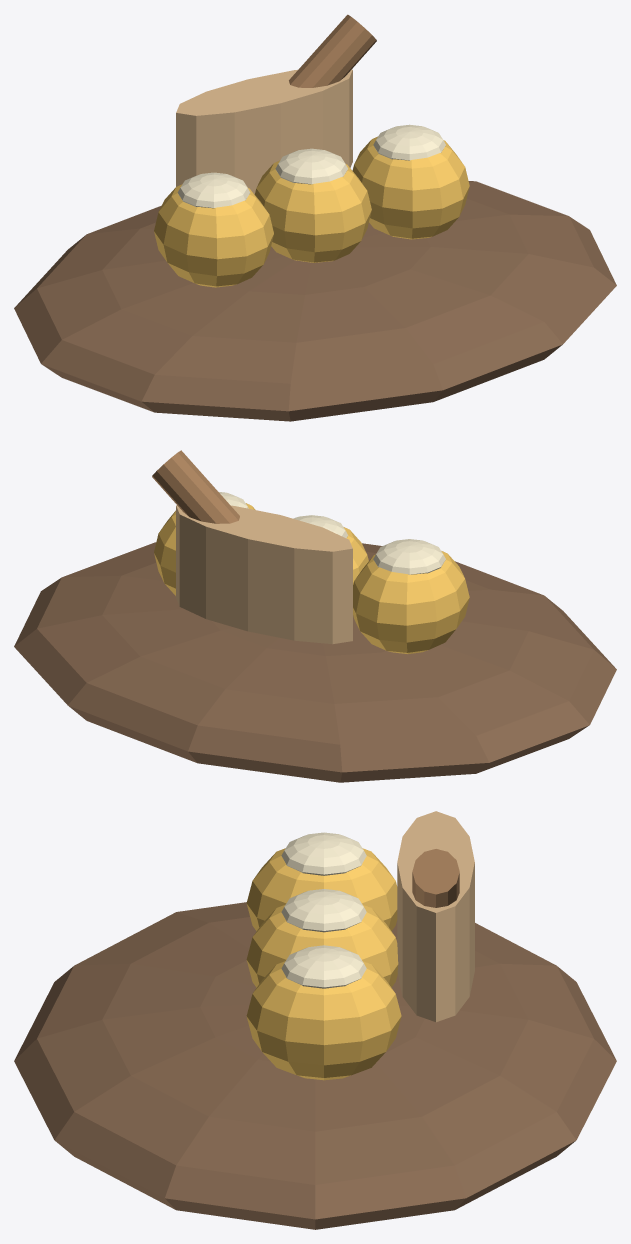
The model's file is SeedMill.fbx.
3 renders of one model, top to bottom at view 1: azimuth 30°, elevation 25°; view 2: azimuth 150°, elevation 25°; view 3: azimuth 270°, elevation 25°, orthographic. The views are drawn at different scales.
Visible parts, largest first — view 1: Worksite soil bed.005, Small sorting wheel, Golden seed bin, Golden seed bin.002, Golden seed bin.001, Wheel handle, Seed cap, Seed cap.002, Seed cap.001; view 2: Worksite soil bed.005, Small sorting wheel, Golden seed bin, Wheel handle, Seed cap, Golden seed bin.002, Golden seed bin.001, Seed cap.001; view 3: Worksite soil bed.005, Golden seed bin.002, Small sorting wheel, Golden seed bin.001, Golden seed bin, Seed cap.001, Seed cap.002, Seed cap, Wheel handle.
Part boxes in pixels (<box>): Worksite soil bed.005: <box>14,181,616,421</box>; Small sorting wheel: <box>176,69,352,194</box>; Golden seed bin: <box>154,184,273,287</box>; Golden seed bin.002: <box>352,136,469,239</box>; Golden seed bin.001: <box>254,160,371,262</box>; Wheel handle: <box>289,14,376,87</box>; Seed cap: <box>177,172,250,208</box>; Seed cap.002: <box>373,124,445,160</box>; Seed cap.001: <box>275,148,347,184</box>; Worksite soil bed.005: <box>14,542,616,782</box>; Small sorting wheel: <box>176,505,352,644</box>; Golden seed bin: <box>353,551,469,653</box>; Wheel handle: <box>152,450,239,523</box>; Seed cap: <box>373,539,445,574</box>; Golden seed bin.002: <box>154,503,255,595</box>; Golden seed bin.001: <box>343,527,368,584</box>; Seed cap.001: <box>293,515,348,538</box>; Worksite soil bed.005: <box>14,902,616,1229</box>; Golden seed bin.002: <box>246,961,401,1080</box>; Small sorting wheel: <box>397,811,474,1022</box>; Golden seed bin.001: <box>246,904,398,987</box>; Golden seed bin: <box>246,848,397,931</box>; Seed cap.001: <box>281,889,366,932</box>; Seed cap.002: <box>281,945,366,988</box>; Seed cap: <box>281,832,366,875</box>; Wheel handle: <box>412,849,459,907</box>.
Size of the model in its own units: 174 by 82.21 by 140.
